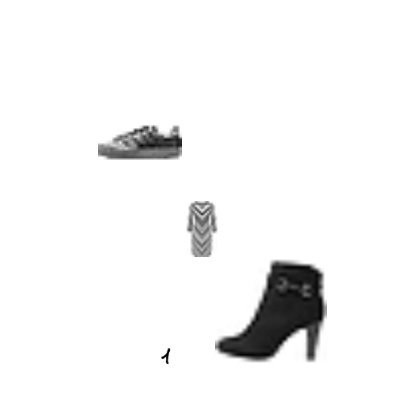1: (155, 345, 177, 367)
Ankle_boot: (215, 253, 327, 365)
Dress: (173, 201, 229, 257)
Sneaker: (98, 99, 182, 183)
